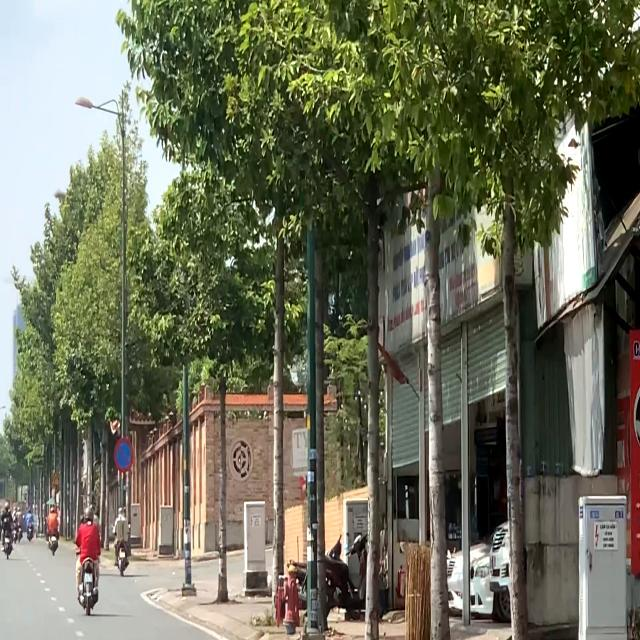Cam do xe: (113, 437, 134, 473)
cho ngoat nguy hiem vong ben phai: (51, 472, 60, 486)
